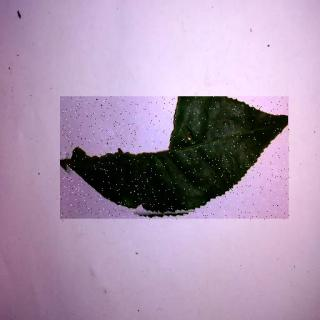Bird Eye Spot: (62, 98, 291, 221)
